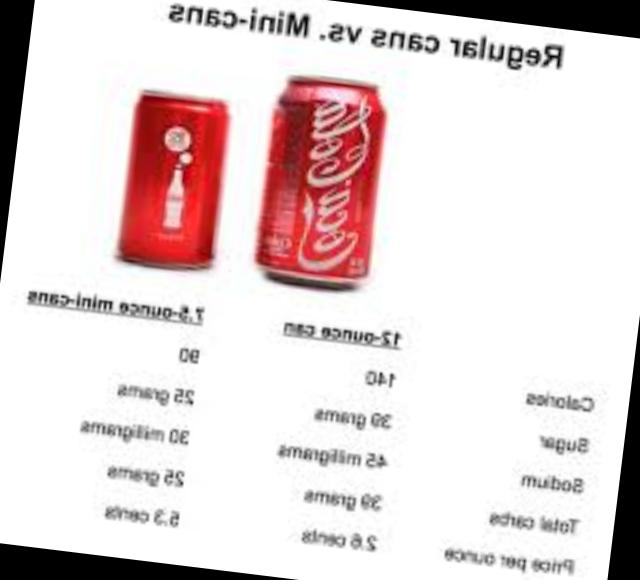metal: (259, 74, 388, 283), (128, 91, 226, 258)
